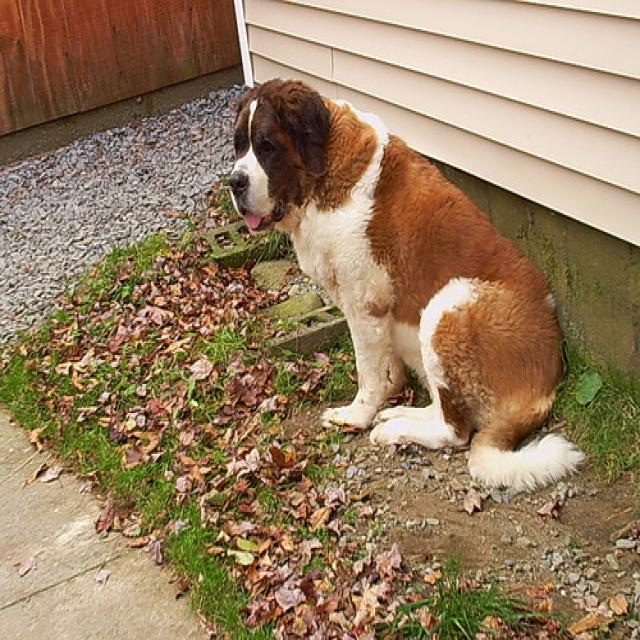dog-saint_bernard: (220, 72, 582, 493)
